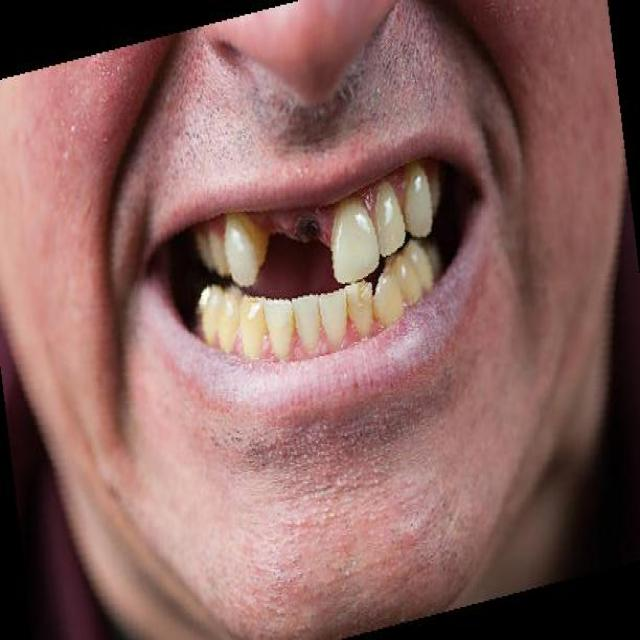caries: (295, 211, 332, 256)
